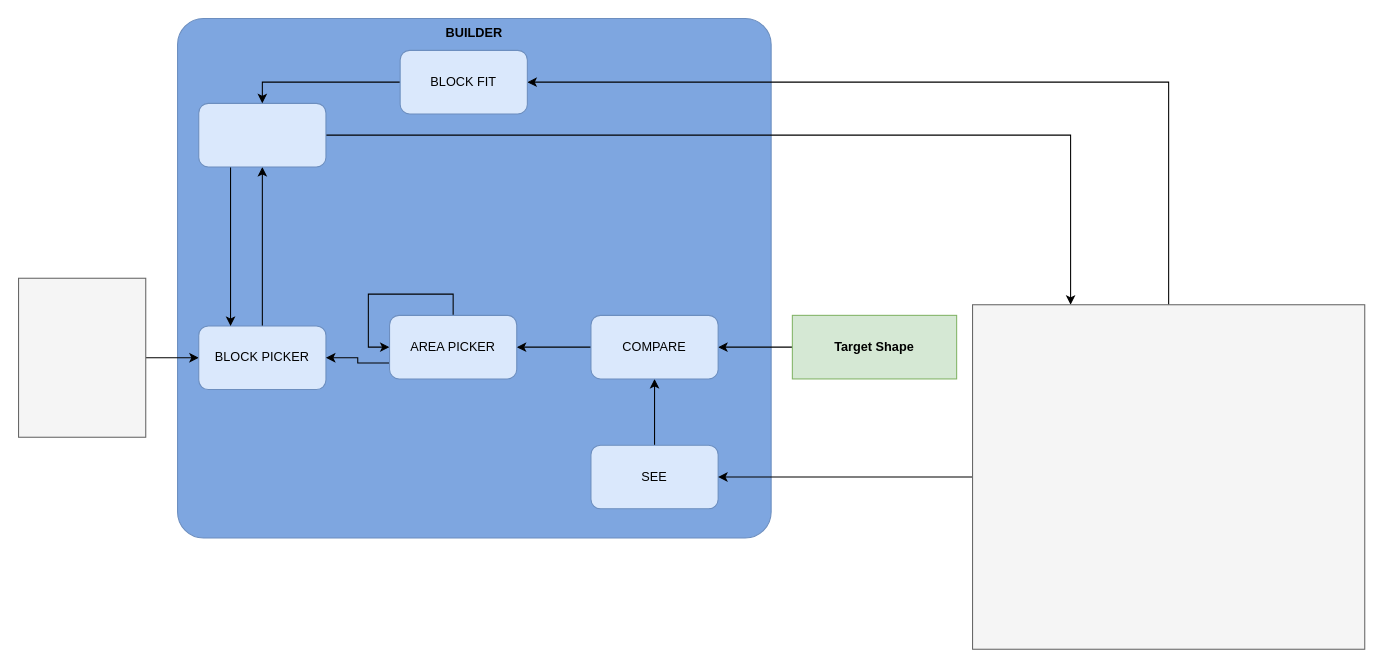
This 1383x668 diagram has some shape labels left out. Each missing label, with the centre of its shape:
Environment: pixel 1168 476
PLACER: pixel 262 134
Types of blocks: pixel 81 357
